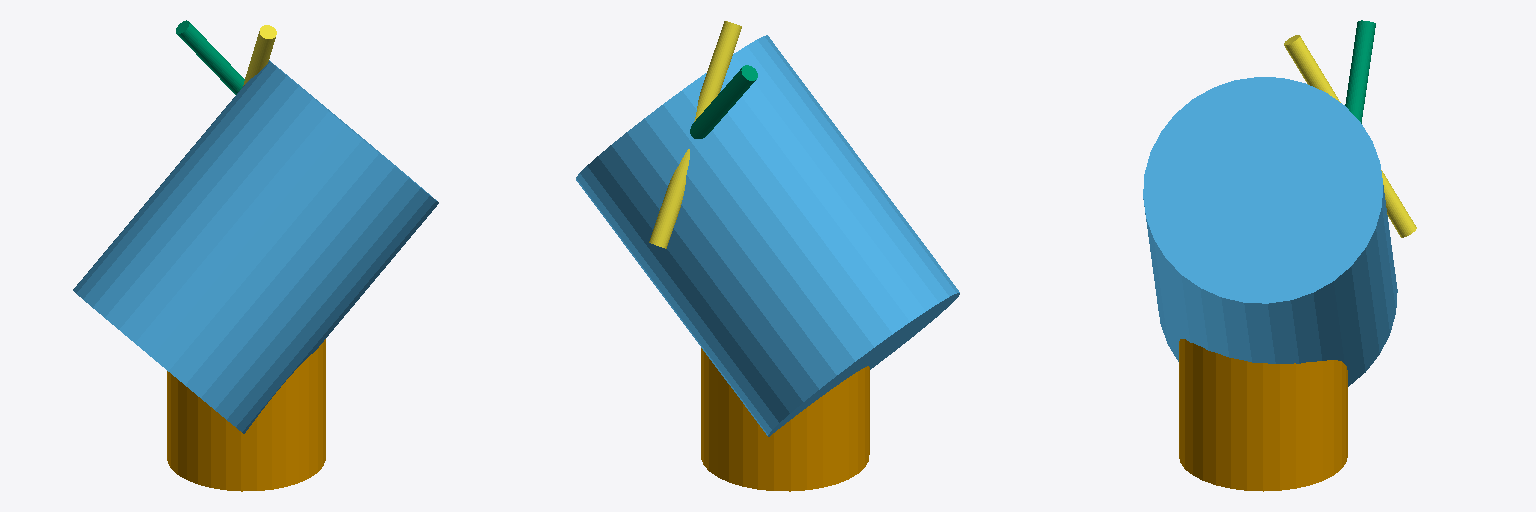
The robot description file, URDF, robot "pepe":
<?xml version="1.0"?><robot name="pepe">
	<link name="0">
		<visual>
			<geometry>
				<cylinder length="2.2897371470123566" radius="0.7030700459111242"/>
			</geometry>
		</visual>
		<collision>
			<geometry>
				<cylinder length="2.2897371470123566" radius="0.7030700459111242"/>
			</geometry>
		</collision>
		<inertial>
			<mass value="3.5557620726981525"/>
			<inertia ixx="0.03" iyy="0.03" izz="0.03" ixy="0" ixz="0" iyx="0"/>
		</inertial>
	</link>
	<link name="11">
		<visual>
			<geometry>
				<cylinder length="2.6780468539074365" radius="0.9999"/>
			</geometry>
		</visual>
		<collision>
			<geometry>
				<cylinder length="2.6780468539074365" radius="0.9999"/>
			</geometry>
		</collision>
		<inertial>
			<mass value="8.411649739873743"/>
			<inertia ixx="0.03" iyy="0.03" izz="0.03" ixy="0" ixz="0" iyx="0"/>
		</inertial>
	</link>
	<link name="22">
		<visual>
			<geometry>
				<cylinder length="1.9530752658243733" radius="0.07800119651066217"/>
			</geometry>
		</visual>
		<collision>
			<geometry>
				<cylinder length="1.9530752658243733" radius="0.07800119651066217"/>
			</geometry>
		</collision>
		<inertial>
			<mass value="0.0373311511467466"/>
			<inertia ixx="0.03" iyy="0.03" izz="0.03" ixy="0" ixz="0" iyx="0"/>
		</inertial>
	</link>
	<link name="23">
		<visual>
			<geometry>
				<cylinder length="1.9530752658243733" radius="0.07800119651066217"/>
			</geometry>
		</visual>
		<collision>
			<geometry>
				<cylinder length="1.9530752658243733" radius="0.07800119651066217"/>
			</geometry>
		</collision>
		<inertial>
			<mass value="0.0373311511467466"/>
			<inertia ixx="0.03" iyy="0.03" izz="0.03" ixy="0" ixz="0" iyx="0"/>
		</inertial>
	</link>
	<joint name="11_to_0" type="revolute">
		<parent link="0"/>
		<child link="11"/>
		<axis xyz="0 1 0"/>
		<limit effort="1" upper="-3.1415" lower="3.1415" velocity="1"/>
		<origin rpy="0.7978502867217495 6.225550231962962 1.5650392050855029" xyz="0.1319503410670193 0.058181755163629334 0.8637086315317808"/>
	</joint>
	<joint name="22_to_11" type="revolute">
		<parent link="11"/>
		<child link="22"/>
		<axis xyz="0 1 0"/>
		<limit effort="1" upper="-3.1415" lower="3.1415" velocity="1"/>
		<origin rpy="10.849496225627897 2.29978883219839 5.990864684610198" xyz="0.7295569266861541 0.5628931841314172 0.9786220533085247"/>
	</joint>
	<joint name="23_to_11" type="revolute">
		<parent link="11"/>
		<child link="23"/>
		<axis xyz="0 1 0"/>
		<limit effort="1" upper="-3.1415" lower="3.1415" velocity="1"/>
		<origin rpy="16.274244338441846 2.29978883219839 5.990864684610198" xyz="0.7295569266861541 0.5628931841314172 0.9786220533085247"/>
	</joint>
</robot>

--- Render facts (derived) ---
3 views of the same robot in one strip: view 1: azimuth 30°, elevation 25°; view 2: azimuth 150°, elevation 25°; view 3: azimuth 270°, elevation 25° (orthographic).
Model pepe with 4 links and 3 joints (3 revolute), rooted at 0, posed all joints at 0.
Visible links, largest first — view 1: 11, 0, 22, 23; view 2: 11, 0, 23, 22; view 3: 11, 0, 23, 22.
Link boxes in pixels (box(x1,y1,x2,y2)): 11: box(73, 60, 438, 433); 0: box(167, 339, 325, 491); 22: box(176, 20, 244, 94); 23: box(243, 25, 276, 85); 11: box(576, 35, 959, 436); 0: box(701, 348, 869, 491); 23: box(649, 21, 741, 248); 22: box(690, 65, 757, 138); 11: box(1143, 77, 1397, 386); 0: box(1179, 339, 1347, 491); 23: box(1284, 35, 1416, 237); 22: box(1345, 20, 1375, 123).
Size in the robot's own frame: 3.31 by 2.28 by 4.02 metres.
Geometry: primitives only (box / cylinder / sphere), no mesh files.
